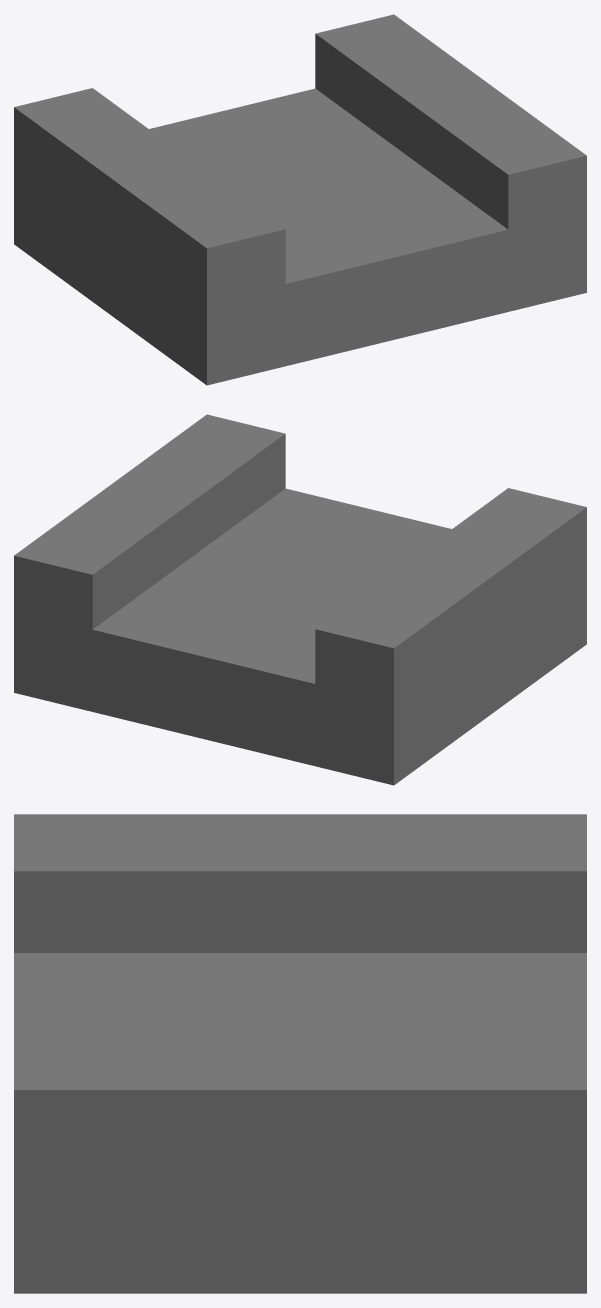
Rendered from connected.obj.
3 views of the same model, one above another, from view 1: azimuth 30°, elevation 25°; view 2: azimuth 150°, elevation 25°; view 3: azimuth 270°, elevation 25° (orthographic). The views are drawn at different scales.
Visible parts, largest first — view 1: FluidConnector_Cube.022; view 2: FluidConnector_Cube.022; view 3: FluidConnector_Cube.022.
Part boxes in pixels (left/top/right/bottom): FluidConnector_Cube.022: left=14, top=14, right=586, bottom=385; FluidConnector_Cube.022: left=14, top=414, right=586, bottom=785; FluidConnector_Cube.022: left=14, top=814, right=586, bottom=1293.
Bounding box in the file's own units: 0.3625 × 0.125 × 0.3187.
